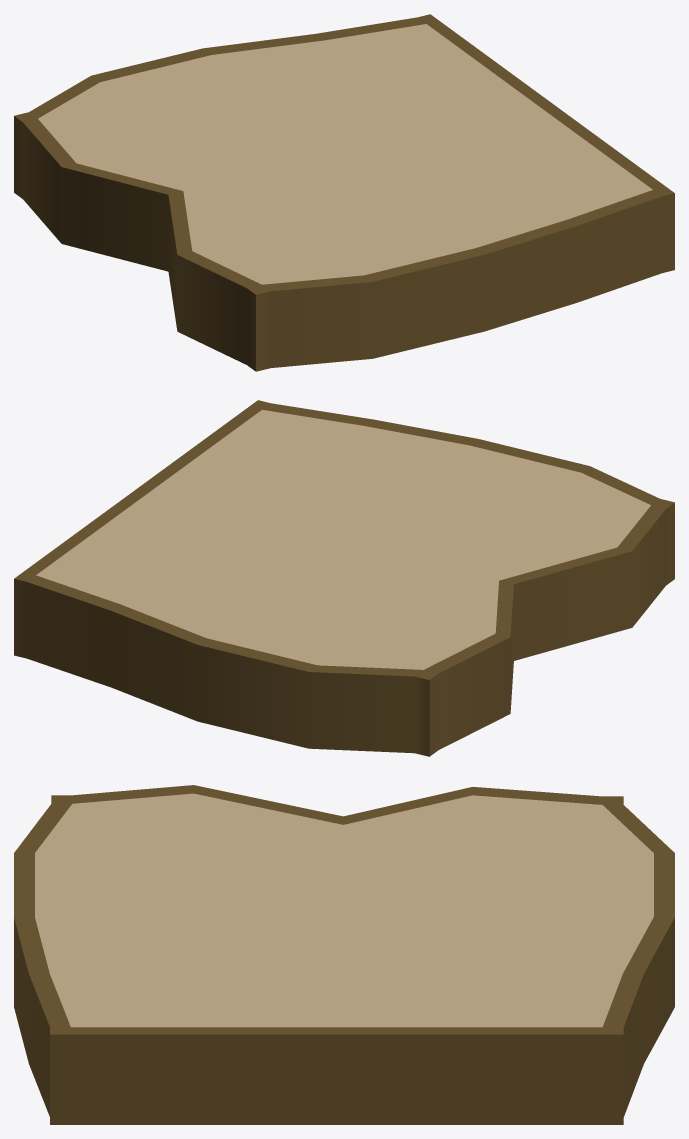
Rendered from Bread_Slice.fbx.
The picture shows the model from 3 angles, top to bottom: view 1: azimuth 30°, elevation 25°; view 2: azimuth 150°, elevation 25°; view 3: azimuth 270°, elevation 25°; orthographic projection. The views are drawn at different scales.
Visible parts, largest first — view 1: Bread_Slice; view 2: Bread_Slice; view 3: Bread_Slice.
Part boxes in pixels (bbox=[...]): Bread_Slice: bbox=[14, 14, 674, 371]; Bread_Slice: bbox=[14, 400, 674, 756]; Bread_Slice: bbox=[14, 785, 674, 1124].
Bounding box in the file's own units: 18.89 × 3.18 × 21.14.
